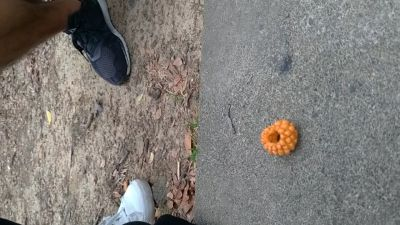eggs: (259, 119, 299, 154)
